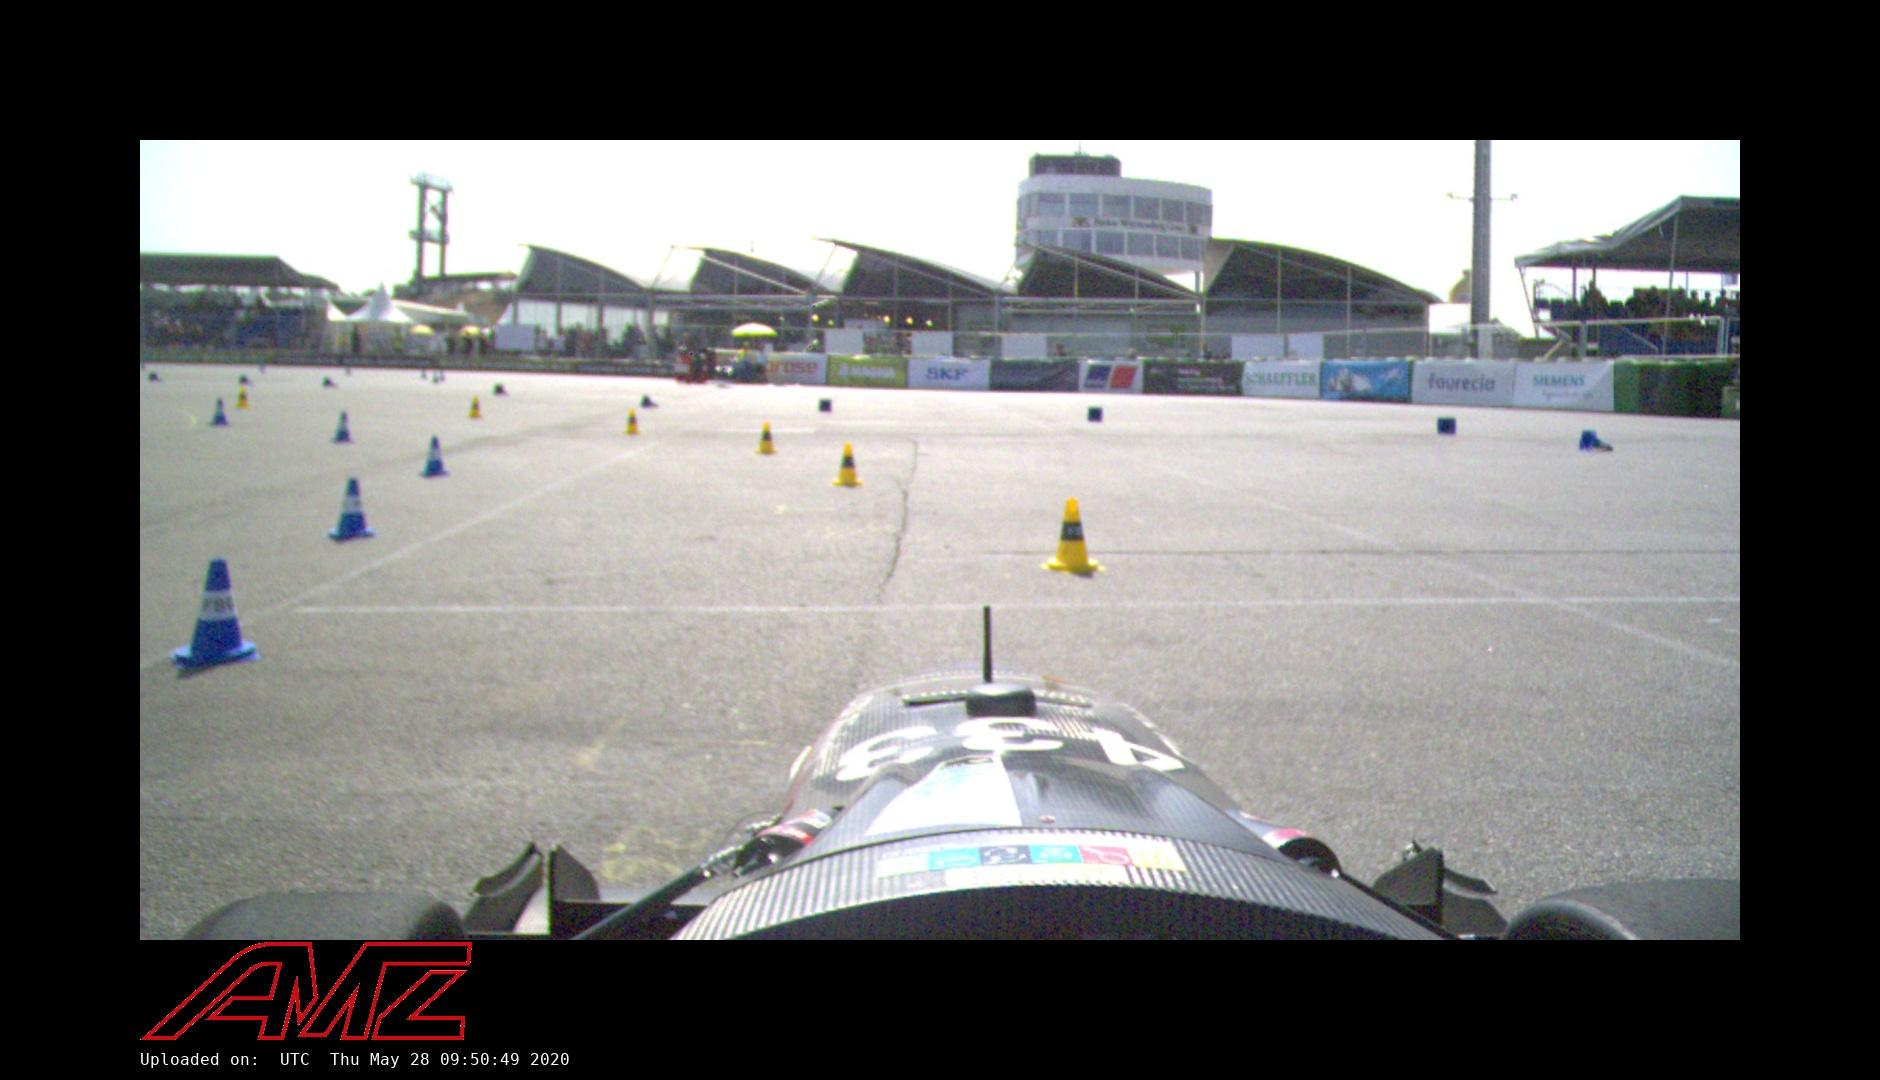blue_cone: (169, 558, 260, 667), (325, 476, 377, 543), (416, 434, 450, 478), (1578, 428, 1617, 454), (328, 409, 354, 444), (208, 397, 229, 427), (638, 395, 659, 408), (491, 383, 511, 396), (238, 374, 256, 387), (321, 376, 338, 389), (148, 371, 165, 383)
yellow_cone: (1043, 497, 1106, 573), (830, 441, 864, 487), (755, 422, 779, 455), (621, 407, 642, 436), (234, 387, 250, 410), (466, 396, 482, 419)
